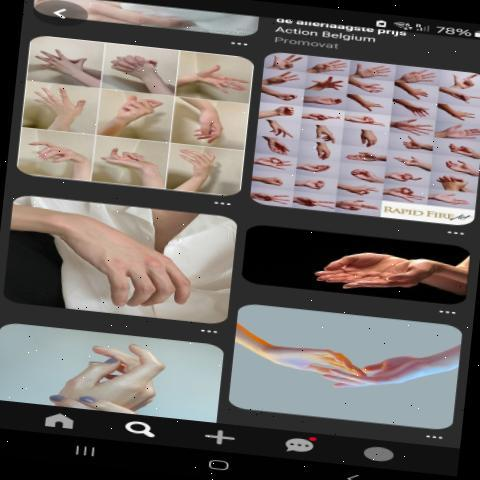Hands: (42, 208, 200, 316), (252, 325, 366, 400), (306, 242, 416, 288)
